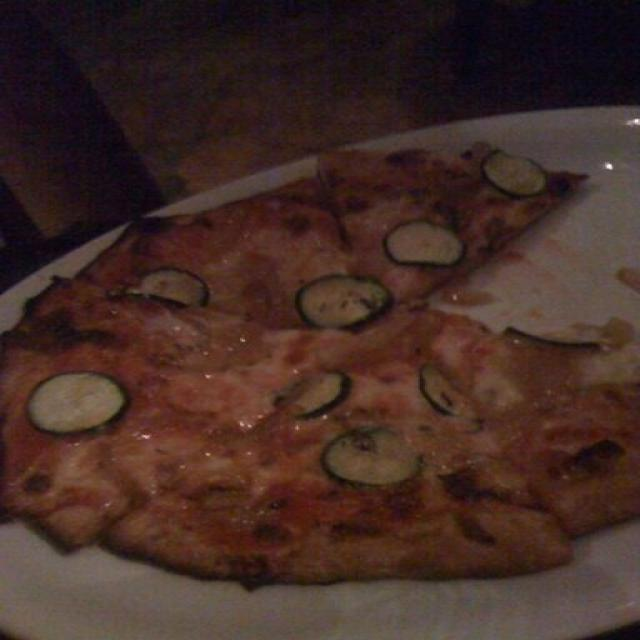Pizza: (3, 144, 638, 584)
